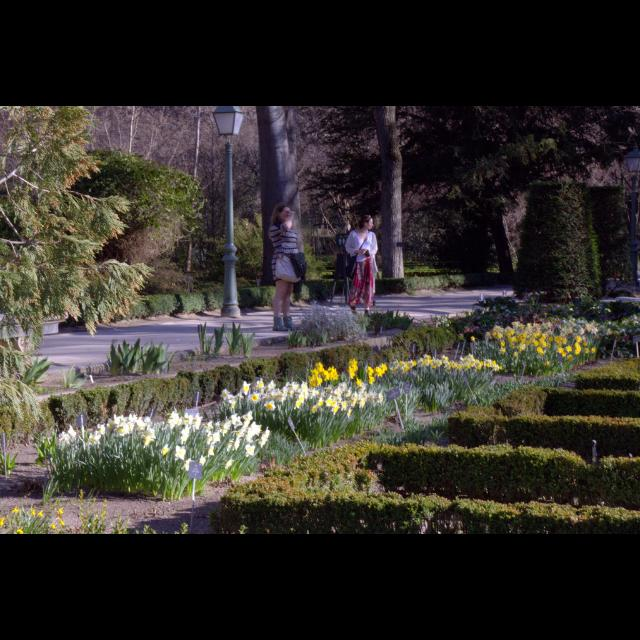Flower: (44, 354, 502, 468), (453, 299, 639, 371), (1, 503, 72, 533)
